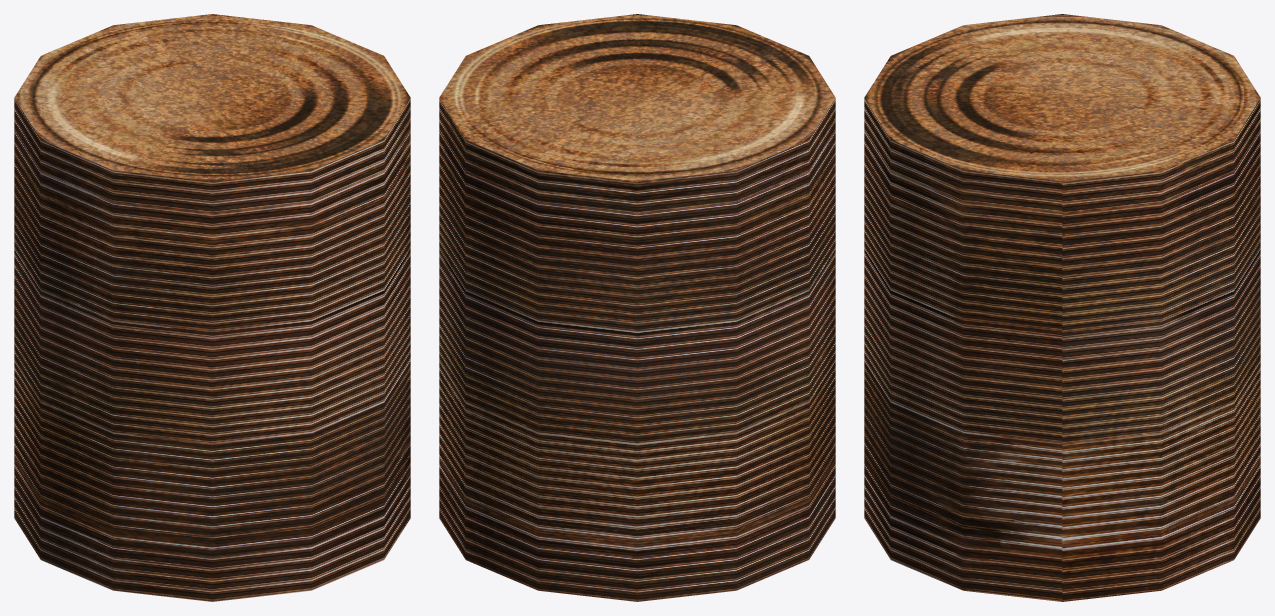
File: TinCan3.FBX
3 views of the same model, side by side, from view 1: azimuth 30°, elevation 25°; view 2: azimuth 150°, elevation 25°; view 3: azimuth 270°, elevation 25° (orthographic).
Parts seen in each view (by area): view 1: TinCan3; view 2: TinCan3; view 3: TinCan3.
Boxes of the visible parts, x1=… form: TinCan3: x1=14, y1=14, x2=410, y2=601; TinCan3: x1=439, y1=14, x2=835, y2=601; TinCan3: x1=864, y1=14, x2=1260, y2=601.
Size of the model in its own units: 0.0956 by 0.1118 by 0.0956.
